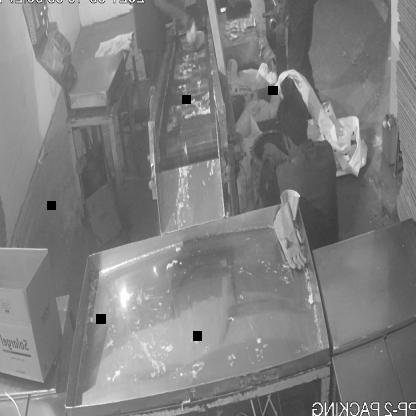no_glove: (145, 0, 191, 40), (272, 0, 296, 49)
